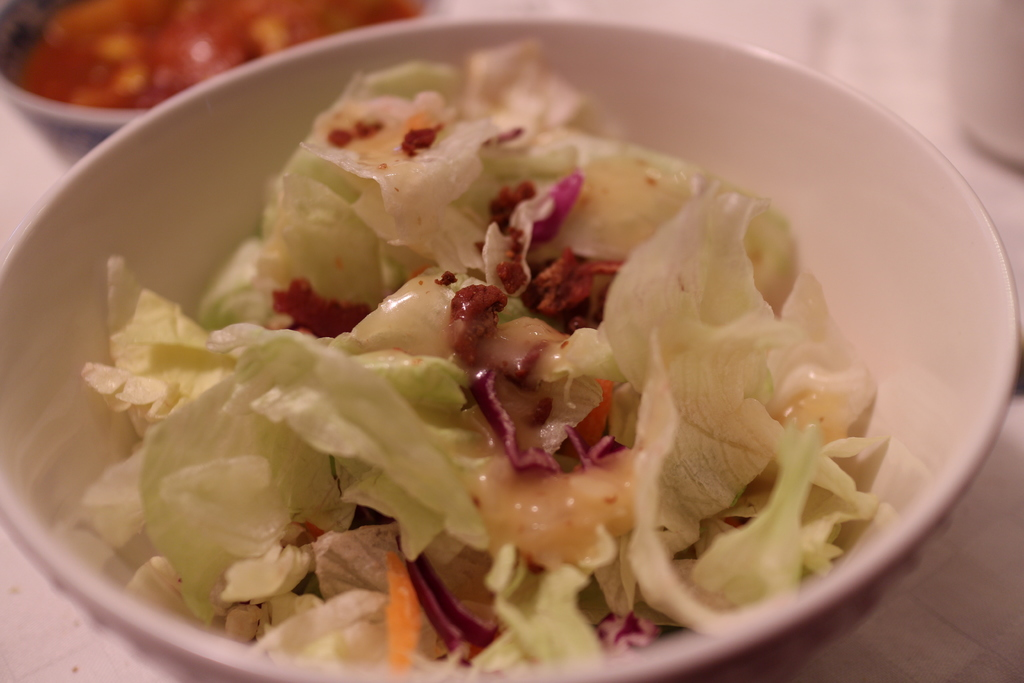Cabbage: (79, 37, 899, 683)
